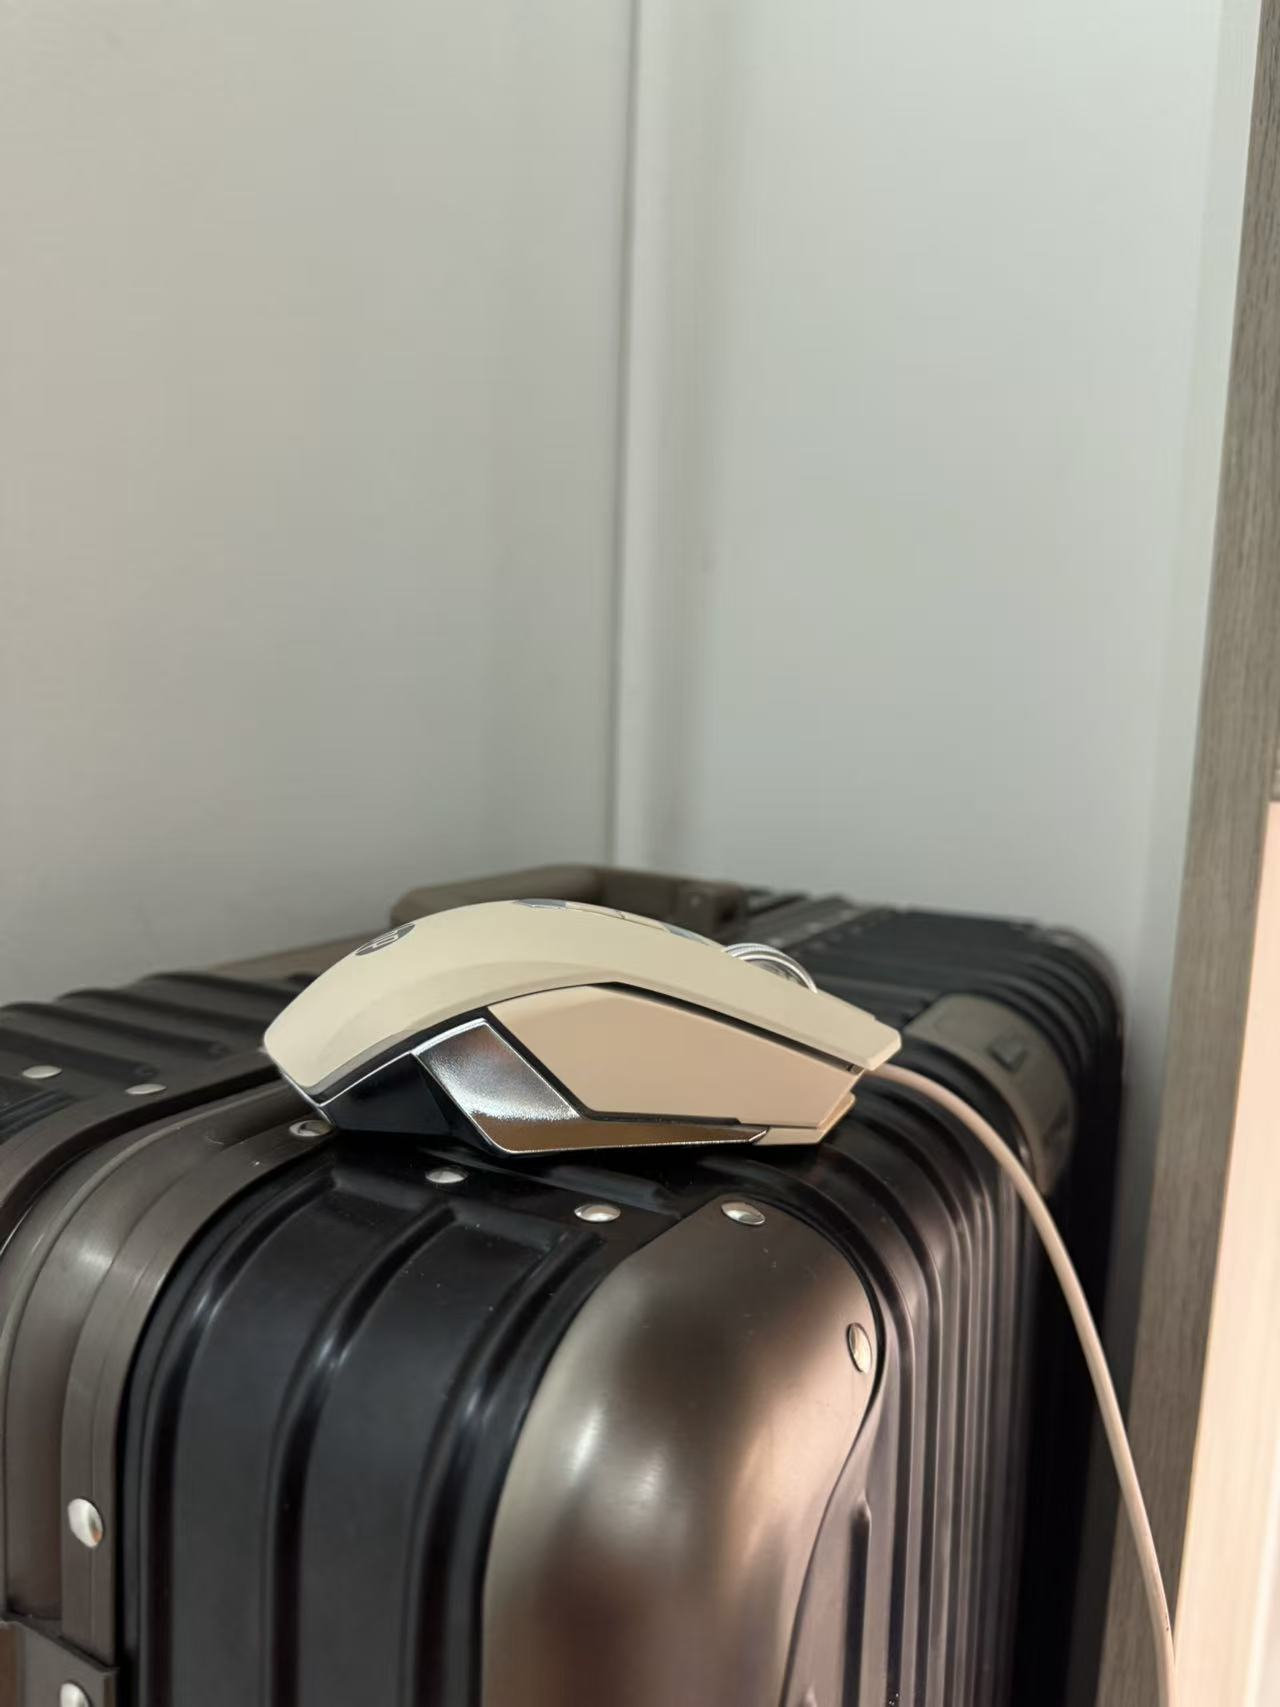mouse: (259, 862, 912, 1200)
